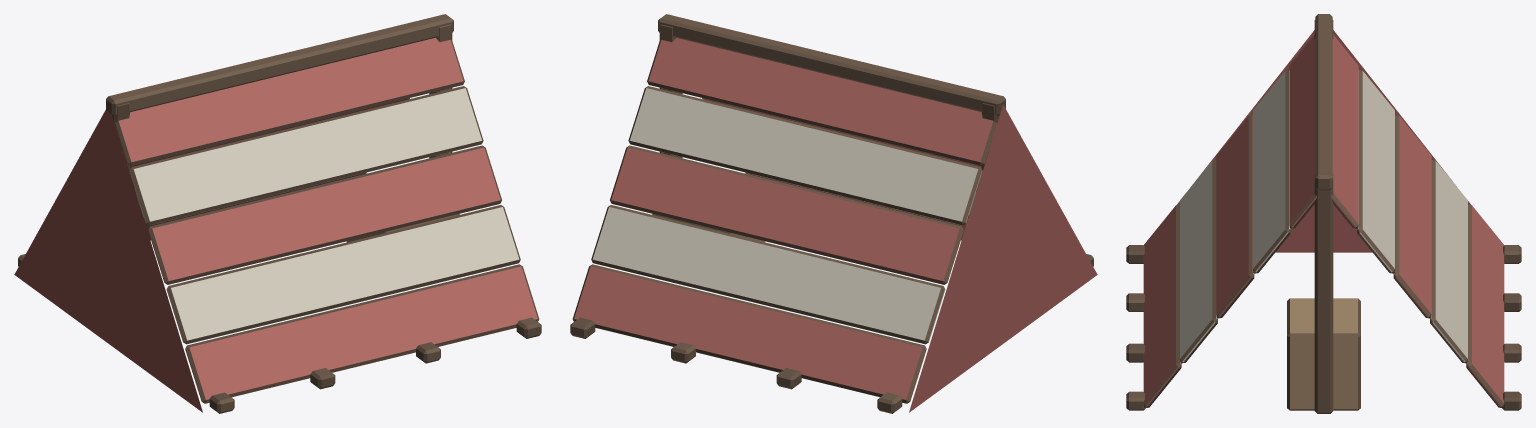
The model's file is SM_Kit_tenda.fbx.
The picture shows the model from 3 angles, left to right: view 1: azimuth 30°, elevation 25°; view 2: azimuth 150°, elevation 25°; view 3: azimuth 270°, elevation 25°; orthographic projection. The views are drawn at different scales.
Parts seen in each view (by area): view 1: SM_Kit_tenda; view 2: SM_Kit_tenda; view 3: SM_Kit_tenda.
Boxes of the visible parts, x1=… form: SM_Kit_tenda: x1=14, y1=14, x2=541, y2=413; SM_Kit_tenda: x1=570, y1=14, x2=1097, y2=413; SM_Kit_tenda: x1=1126, y1=14, x2=1521, y2=413.
Size of what is drawn, in the model's own units: 272 by 186 by 278.
